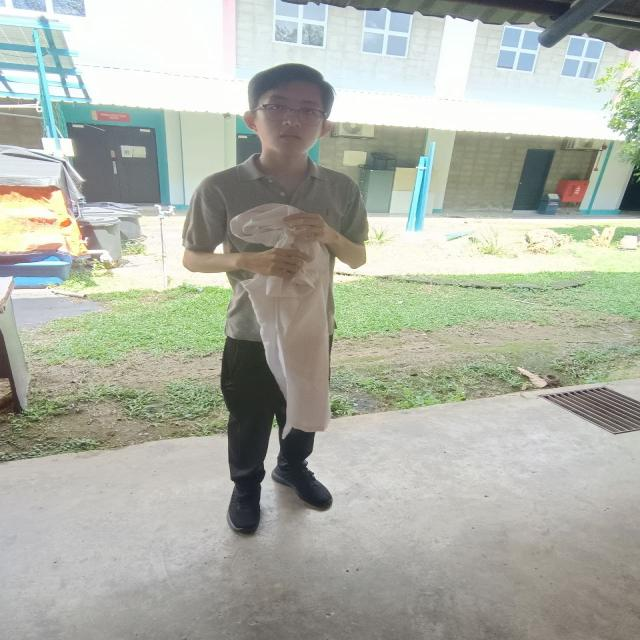person_without_labcoat: (183, 64, 366, 533)
